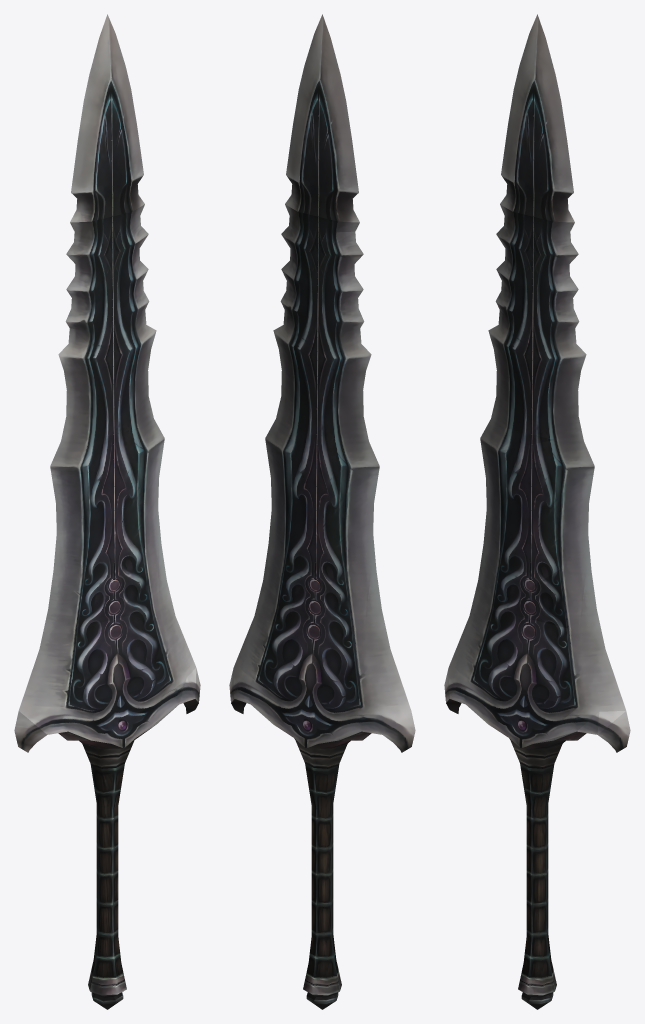
The model's file is Weapon_28.fbx.
3 renders of one model, left to right at view 1: azimuth 30°, elevation 25°; view 2: azimuth 150°, elevation 25°; view 3: azimuth 330°, elevation 25°, orthographic.
Parts seen in each view (by area): view 1: Weapon_28; view 2: Weapon_28; view 3: Weapon_28.
Part boxes in pixels (x1,y1,x2,y2): Weapon_28: (14, 14, 200, 1009); Weapon_28: (229, 14, 415, 1009); Weapon_28: (444, 14, 630, 1009).
Size of the model in its own units: 32.26 by 9.89 by 165.
